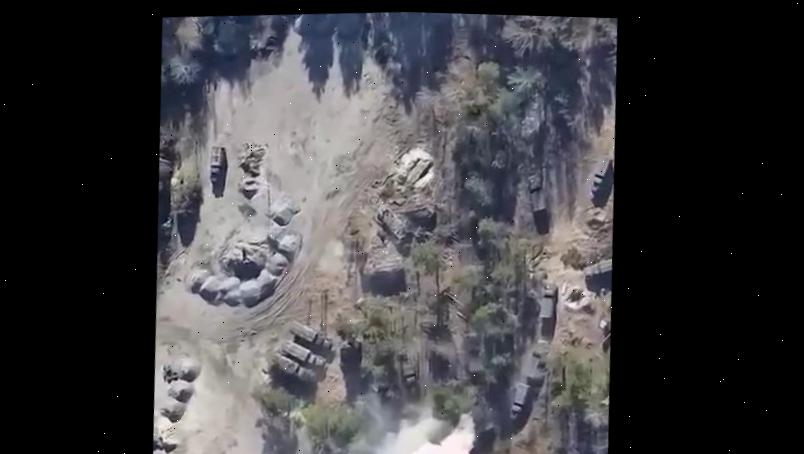truck: (279, 335, 329, 370), (286, 316, 335, 350), (275, 351, 319, 382), (585, 155, 613, 199), (526, 171, 552, 212), (508, 380, 532, 419), (207, 144, 229, 183), (582, 255, 613, 277), (538, 284, 558, 318), (255, 454, 285, 454)
